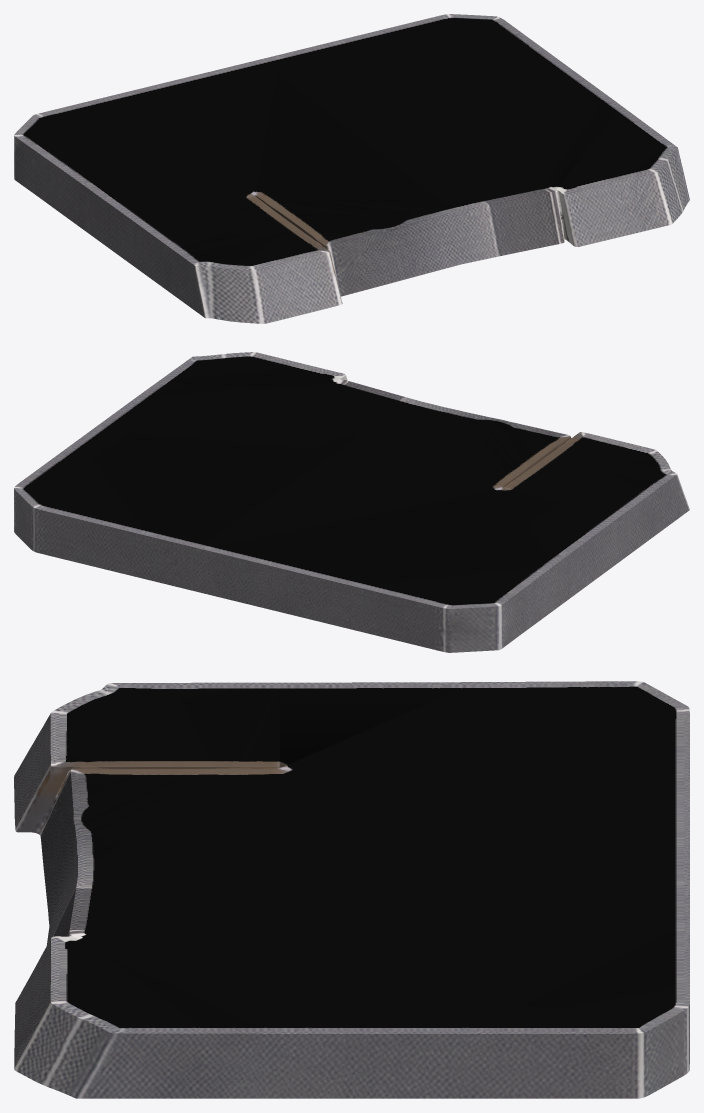
The model's file is 7-roof.fbx.
The picture shows the model from 3 angles, top to bottom: view 1: azimuth 30°, elevation 25°; view 2: azimuth 150°, elevation 25°; view 3: azimuth 270°, elevation 25°; orthographic projection. The views are drawn at different scales.
Visible parts, largest first — view 1: roof; view 2: roof; view 3: roof.
Boxes of the visible parts, bbox=[...] form: roof: bbox=[14, 14, 689, 323]; roof: bbox=[14, 352, 689, 652]; roof: bbox=[14, 681, 689, 1098].
Bounding box in the file's own units: 5873 × 504 × 4757.
Materials: 1 (1 with a texture image).
